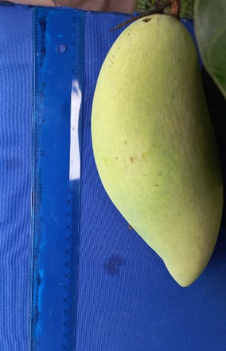Mango-sano: (91, 15, 222, 286)
